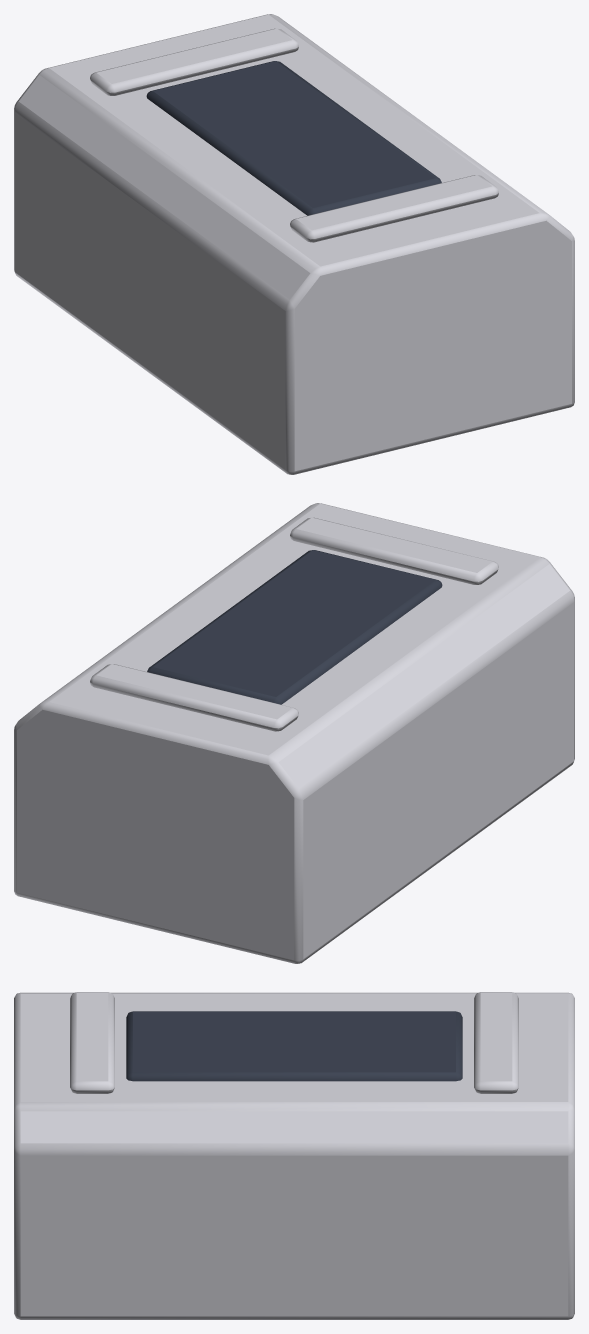
Rendered from ware_rohdiamant.fbx.
The picture shows the model from 3 angles, top to bottom: view 1: azimuth 30°, elevation 25°; view 2: azimuth 150°, elevation 25°; view 3: azimuth 270°, elevation 25°; orthographic projection.
Visible parts, largest first — view 1: ware_rohdiamant_Koerper; view 2: ware_rohdiamant_Koerper; view 3: ware_rohdiamant_Koerper.
Part boxes in pixels (left/top/right/bottom): ware_rohdiamant_Koerper: left=14, top=14, right=574, bottom=474; ware_rohdiamant_Koerper: left=14, top=503, right=574, bottom=963; ware_rohdiamant_Koerper: left=14, top=992, right=574, bottom=1319.
Size of the model in its own units: 0.3 by 0.211 by 0.5.
